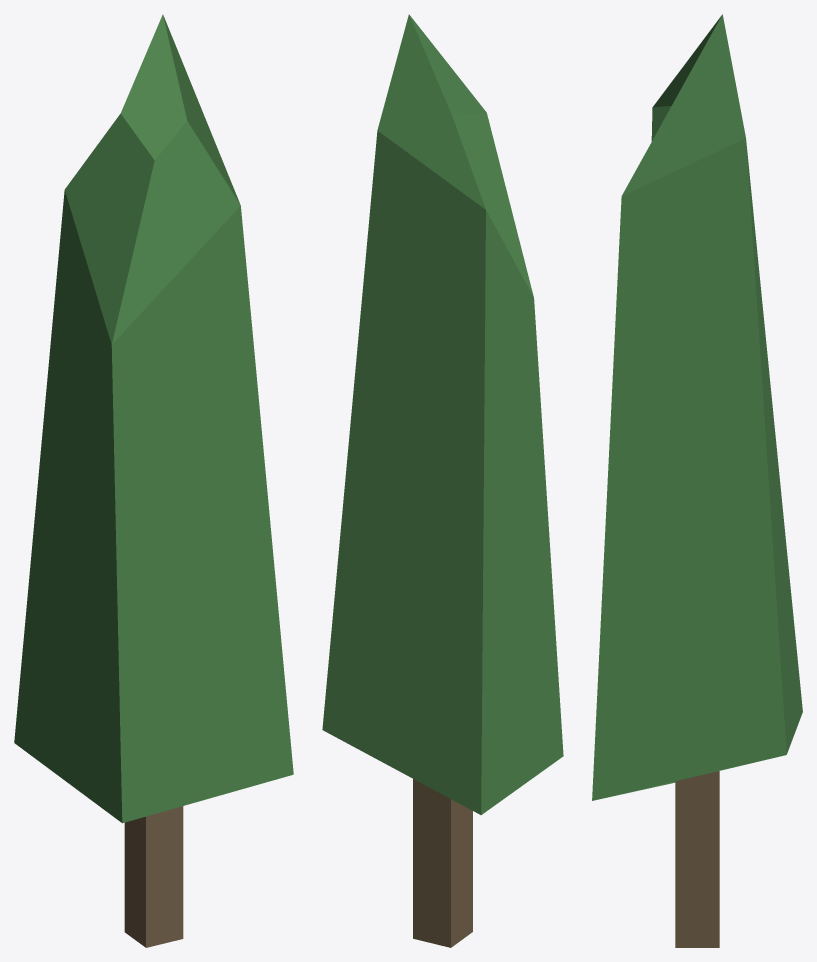
The model's file is tree_01.fbx.
The picture shows the model from 3 angles, left to right: view 1: azimuth 30°, elevation 25°; view 2: azimuth 150°, elevation 25°; view 3: azimuth 270°, elevation 25°; orthographic projection. The views are drawn at different scales.
Visible parts, largest first — view 1: pasted__pCube6; view 2: pasted__pCube6; view 3: pasted__pCube6.
Boxes of the visible parts, box(x1,y1,x2,y2) form: pasted__pCube6: box(14, 14, 293, 947); pasted__pCube6: box(322, 14, 563, 947); pasted__pCube6: box(592, 14, 802, 947).
Bounding box in the file's own units: 0.306 × 1.5 × 0.306.
